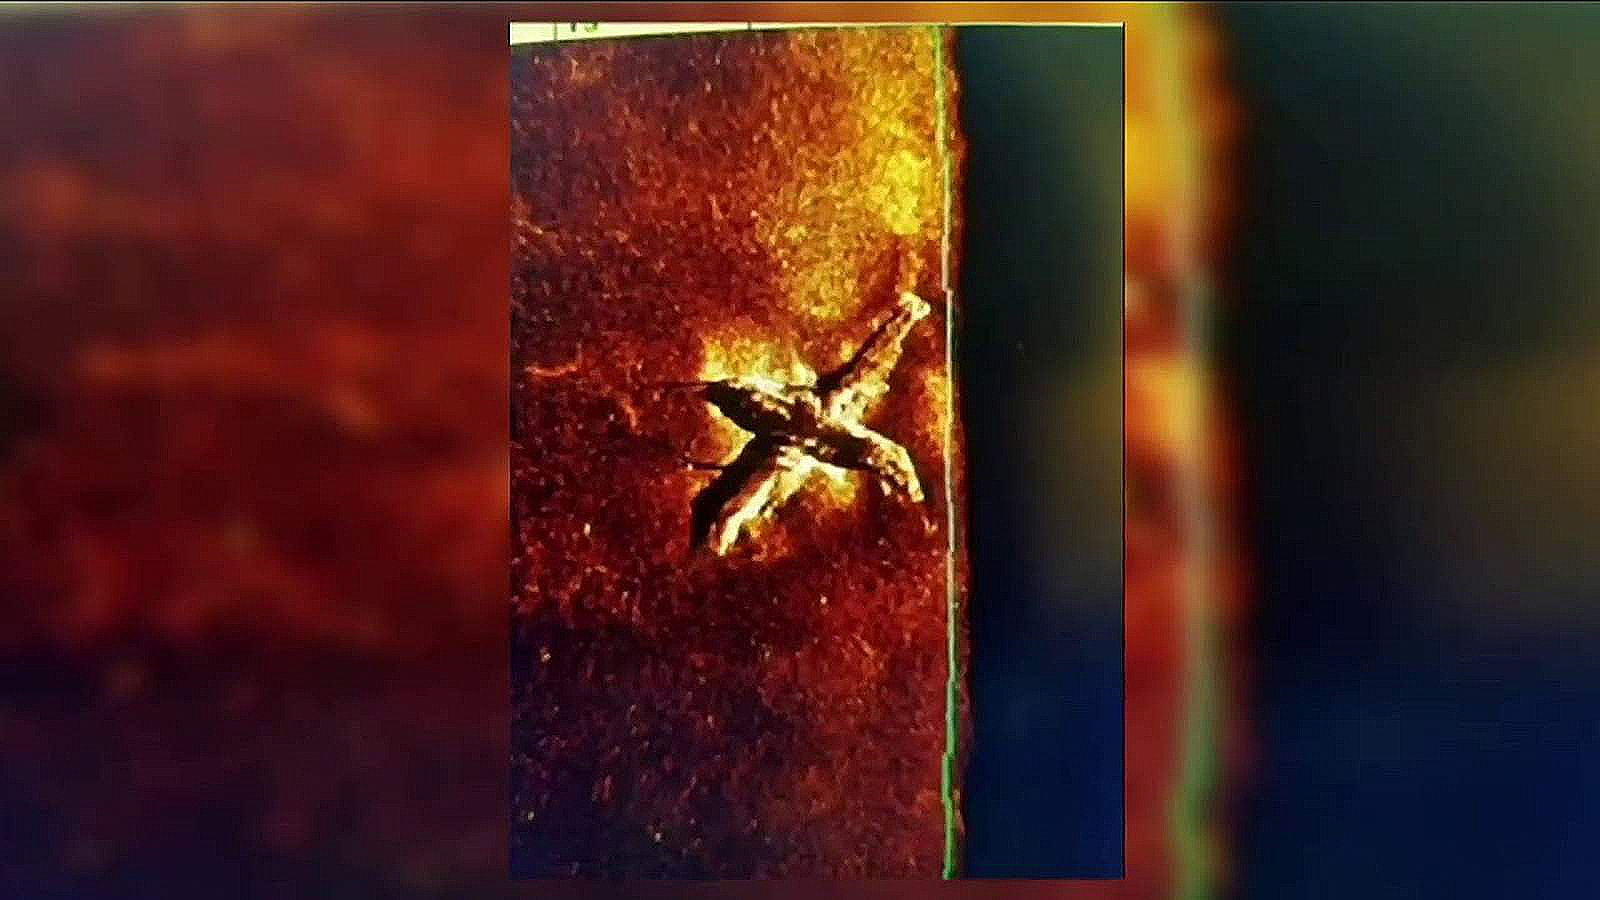aircraft: (688, 287, 935, 556)
